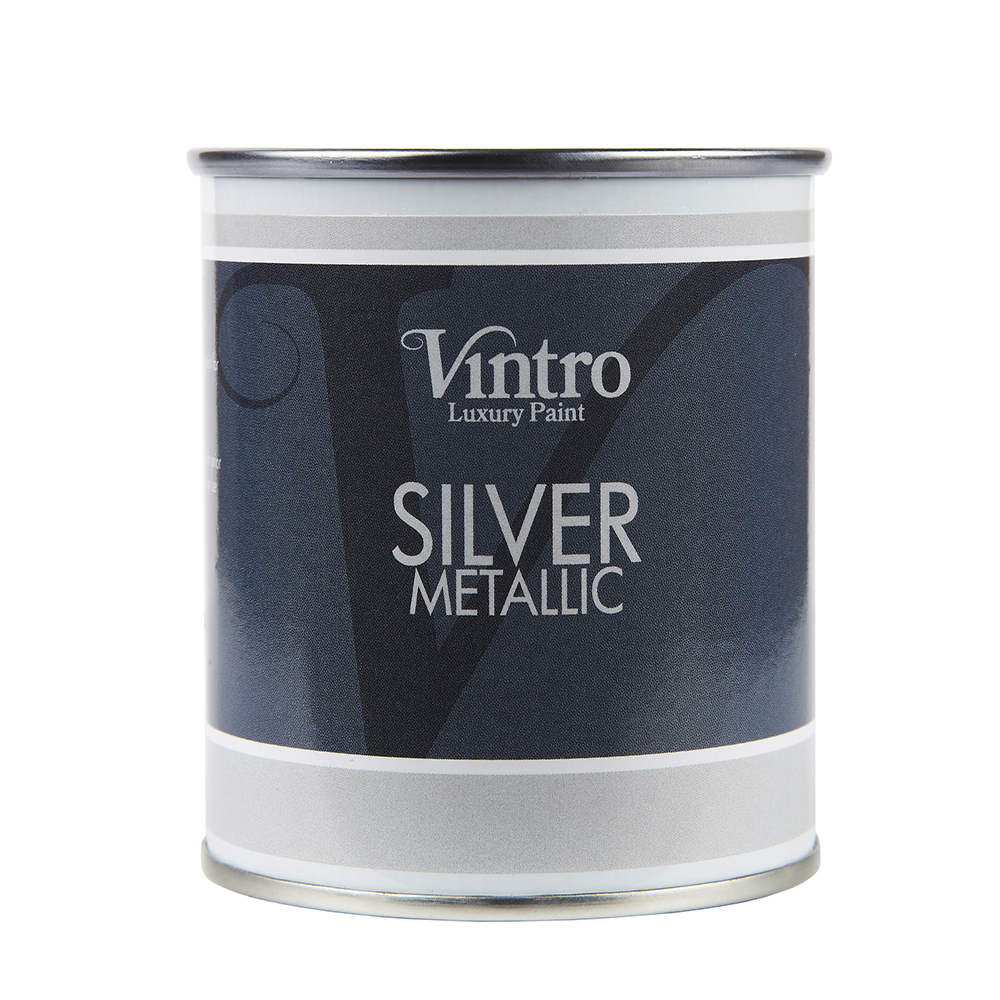metal: (182, 145, 836, 925)
